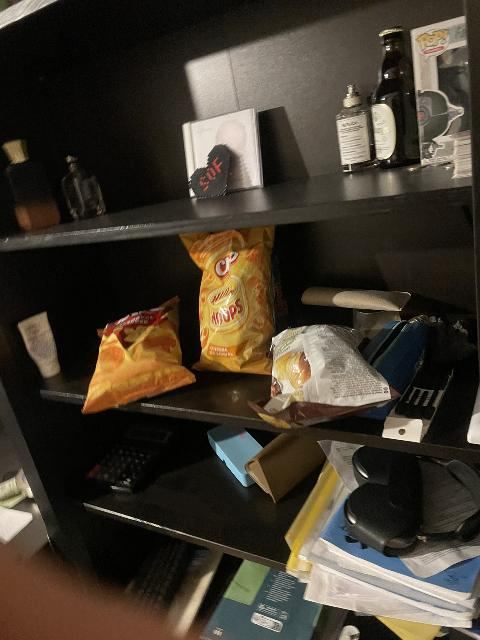Chio Cascaval 125g: (82, 299, 197, 410)
Chio Hula Hoops Cheese 70g: (179, 233, 279, 376)
Lays Beef Grilled Ribs 125g: (251, 326, 393, 429)
